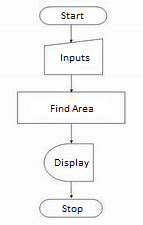arrow: (68, 23, 74, 43), (69, 180, 75, 198), (68, 122, 72, 142), (69, 73, 73, 92)
process: (15, 88, 125, 123), (42, 36, 104, 76), (41, 141, 95, 182)
terminator: (38, 5, 108, 25), (37, 198, 103, 219)
text: (49, 102, 95, 113), (52, 157, 88, 167), (59, 52, 89, 63), (60, 8, 84, 19), (61, 203, 83, 214)
